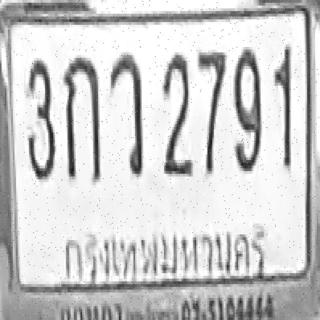A01: (63, 55, 100, 182)
A37: (109, 51, 143, 178)
N01: (273, 44, 291, 171)
N02: (161, 51, 191, 175)
N03: (26, 59, 55, 181)
N07: (197, 50, 226, 174)
N09: (232, 47, 261, 174)
P04: (59, 215, 270, 285)
